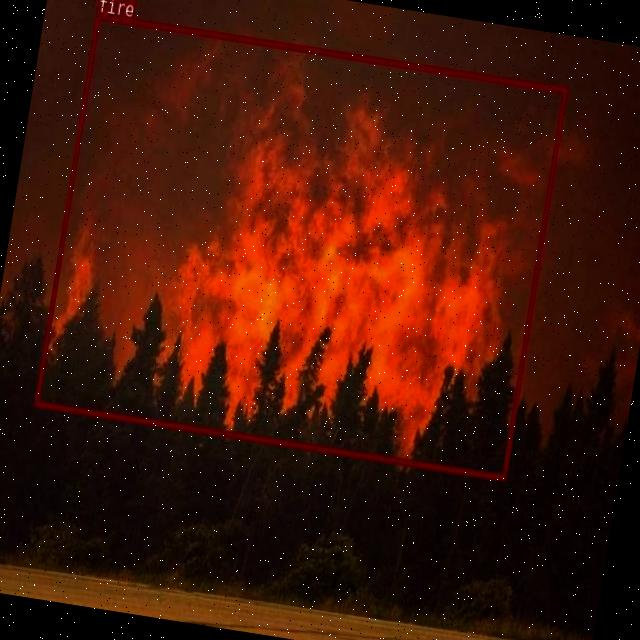fire: (34, 11, 568, 480)
